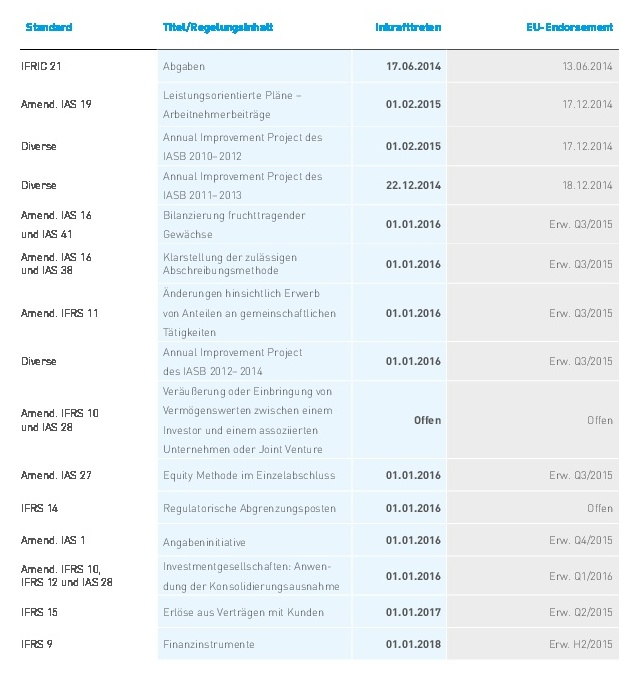table: (0, 0, 638, 681)
